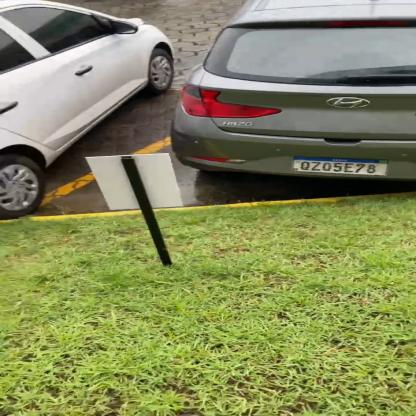Plate: (290, 154, 396, 179)
